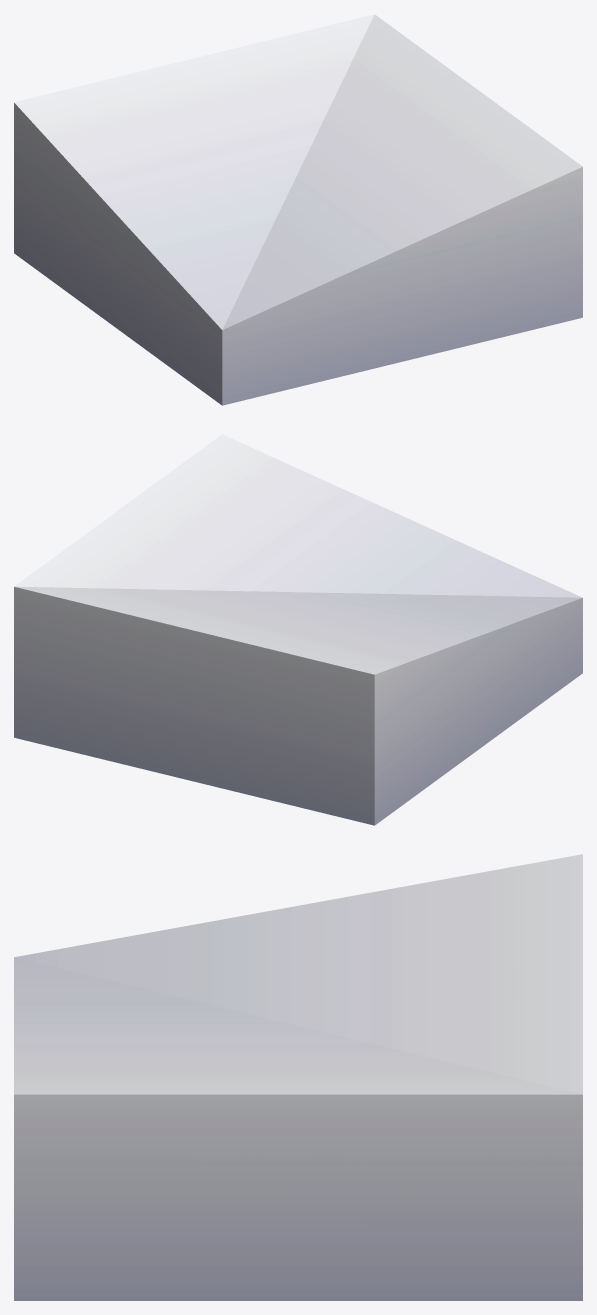
The model's file is kenney-tower-defense-snow-tile-corner-inner.glb.
The picture shows the model from 3 angles, top to bottom: view 1: azimuth 30°, elevation 25°; view 2: azimuth 150°, elevation 25°; view 3: azimuth 270°, elevation 25°; orthographic projection. The views are drawn at different scales.
Visible parts, largest first — view 1: snow-tile-corner-inner; view 2: snow-tile-corner-inner; view 3: snow-tile-corner-inner.
Part boxes in pixels (x1,y1,x2,y2): snow-tile-corner-inner: [14, 14, 582, 405]; snow-tile-corner-inner: [14, 434, 582, 825]; snow-tile-corner-inner: [14, 854, 582, 1300].
Bounding box in the file's own units: 1 × 0.3999 × 1.
1 material, 1 textured.
